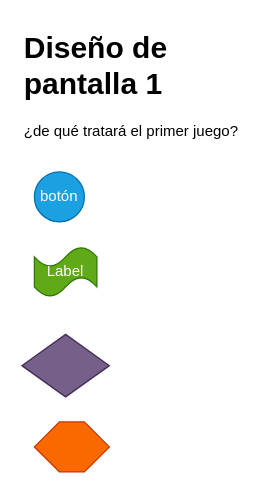
The diagram is 269 pixels wide and 494 high, and some of its shapes have lost their labels. Each missing label, with the centre of its shape:
condicional: the point at 65,365
función: the point at 71,446
